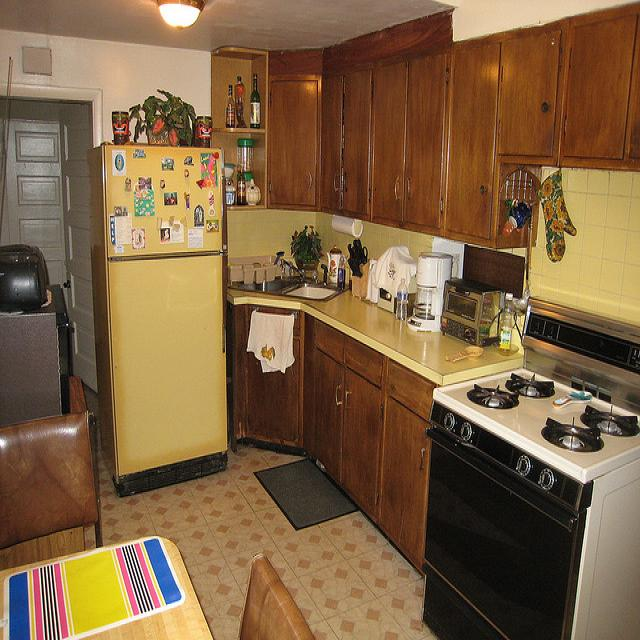chair: (1, 376, 105, 568), (243, 545, 318, 640)
dining table: (1, 535, 211, 633)
